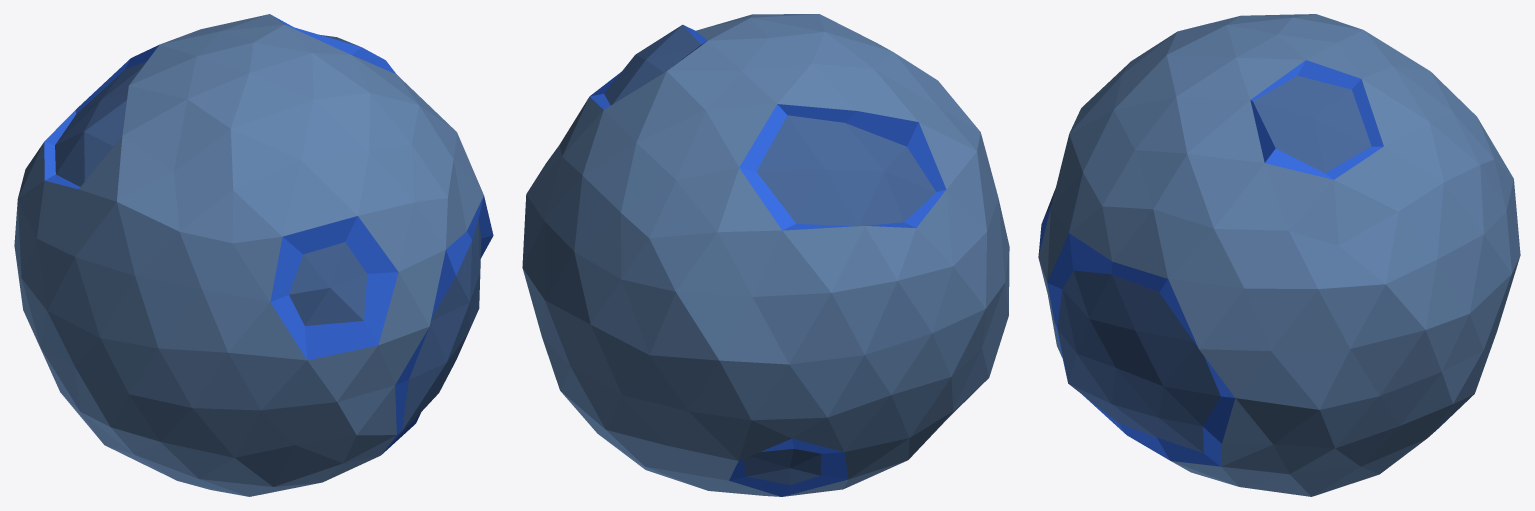
File: Uranus.fbx
3 renders of one model, left to right at view 1: azimuth 30°, elevation 25°; view 2: azimuth 150°, elevation 25°; view 3: azimuth 270°, elevation 25°, orthographic. The views are drawn at different scales.
Parts seen in each view (by area): view 1: uranus; view 2: uranus; view 3: uranus.
Part boxes in pixels (x1=…): uranus: x1=14, y1=14, x2=493, y2=496; uranus: x1=522, y1=14, x2=1009, y2=496; uranus: x1=1038, y1=14, x2=1520, y2=496.
Bounding box in the file's own units: 187 × 186 × 187.
